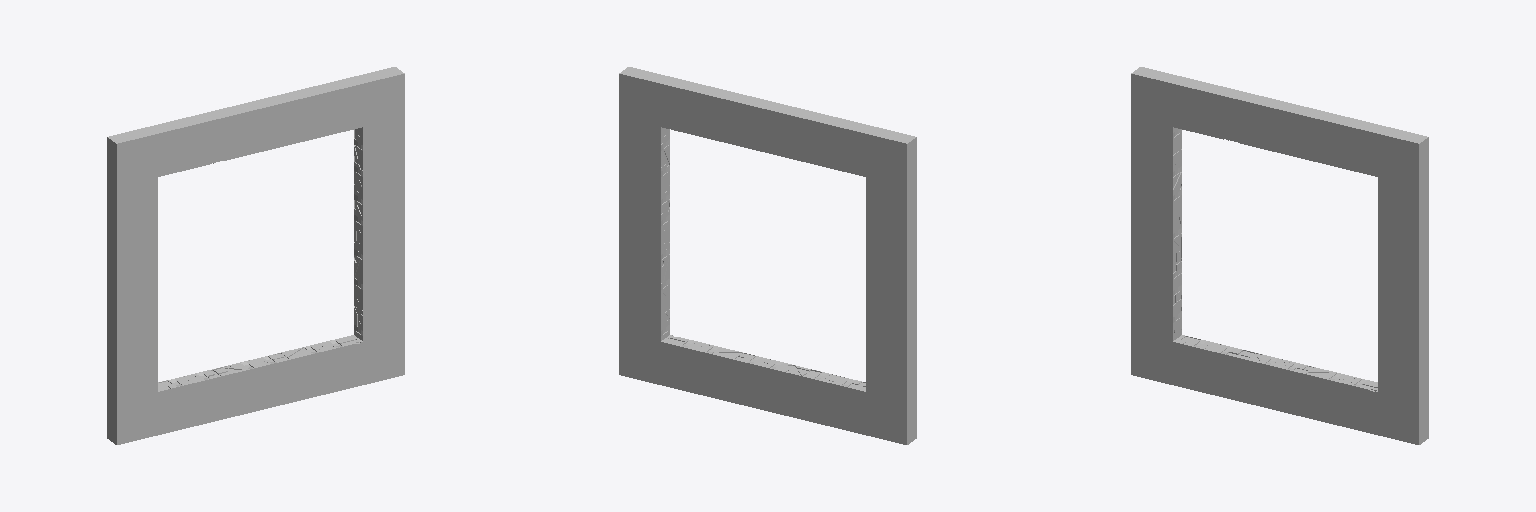
The model's file is arena.obj.
The picture shows the model from 3 angles: view 1: azimuth 30°, elevation 25°; view 2: azimuth 150°, elevation 25°; view 3: azimuth 330°, elevation 25°; orthographic projection.
Visible parts, largest first — view 1: polySurface243; view 2: polySurface243; view 3: polySurface243.
Boxes of the visible parts, x1,y1,x2,y2 form: polySurface243: [107, 67, 404, 444]; polySurface243: [619, 67, 916, 444]; polySurface243: [1131, 67, 1428, 444].
Bounding box in the file's own units: 2812 × 2812 × 162.